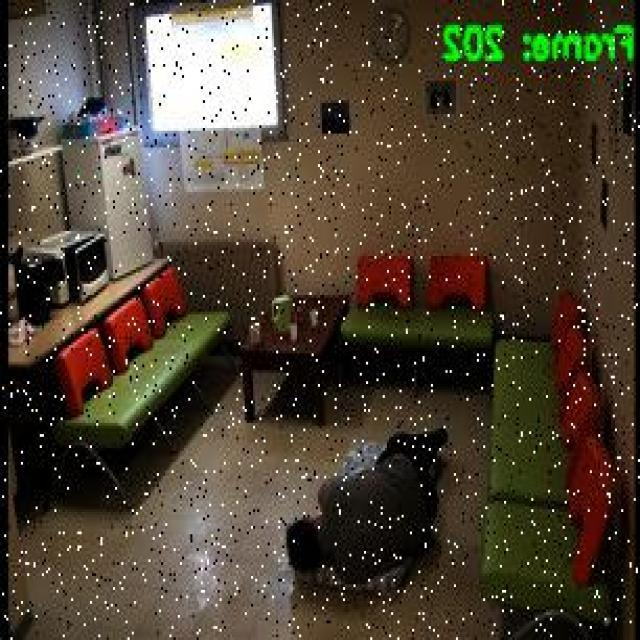fall: (288, 419, 450, 586)
